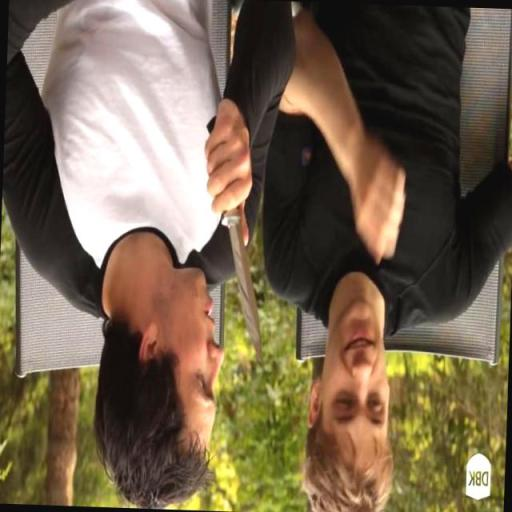knife: (197, 151, 279, 390)
